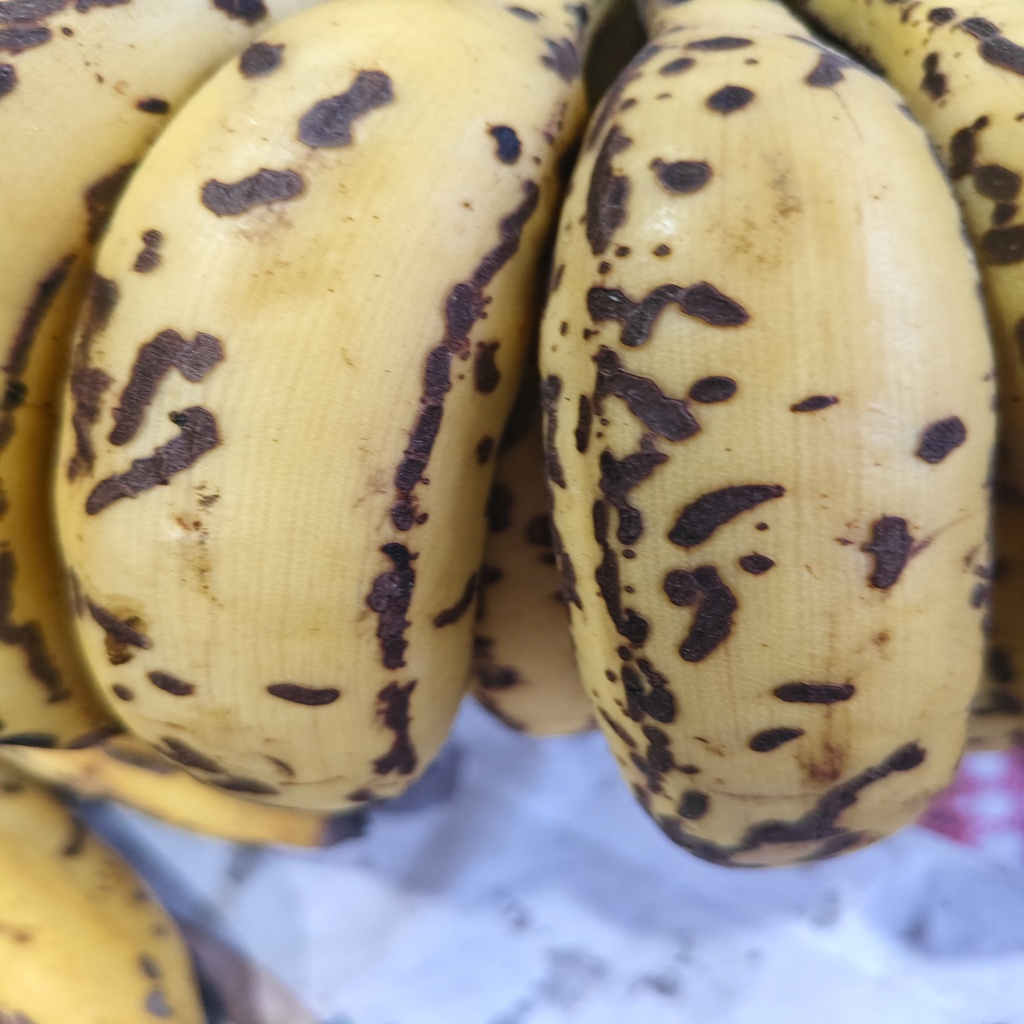unhealthy: (48, 13, 601, 815), (550, 55, 991, 861)
